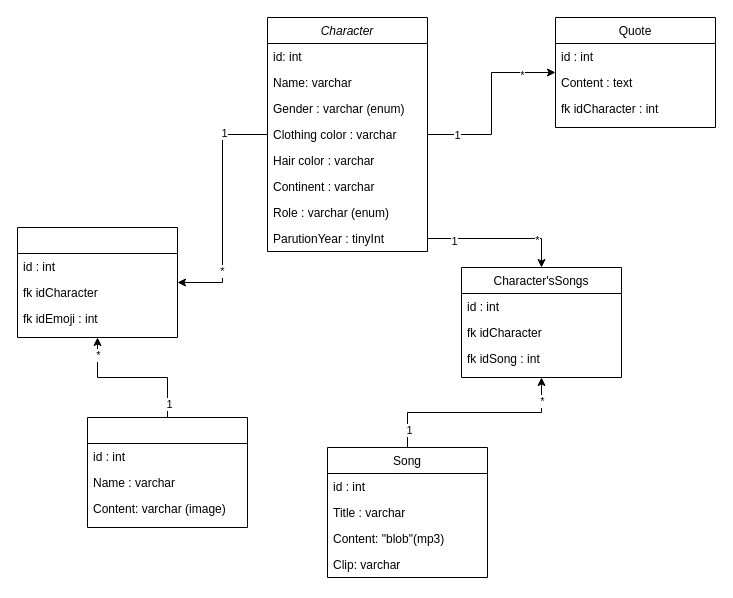
Image size: 733x598. Some labels were removed from this diagram. Each missing label, with the box of its shape:
Character'sEmojis: (16, 226, 178, 338)
Emoji: (86, 416, 248, 528)
